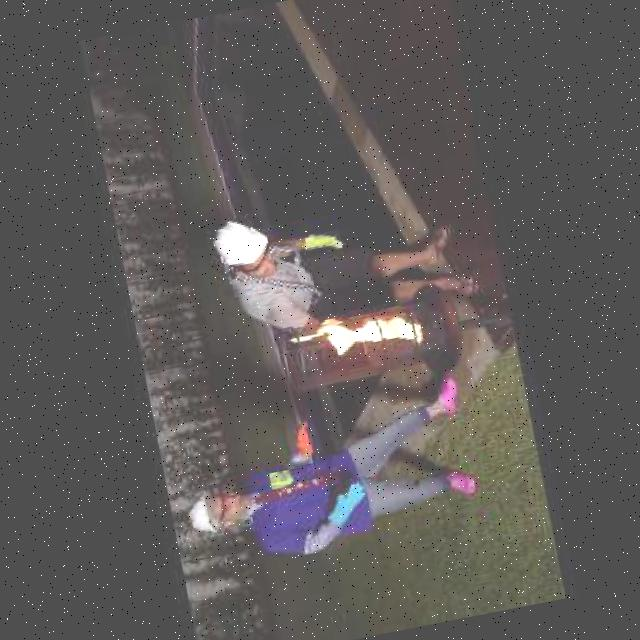fire: (295, 308, 420, 368)
